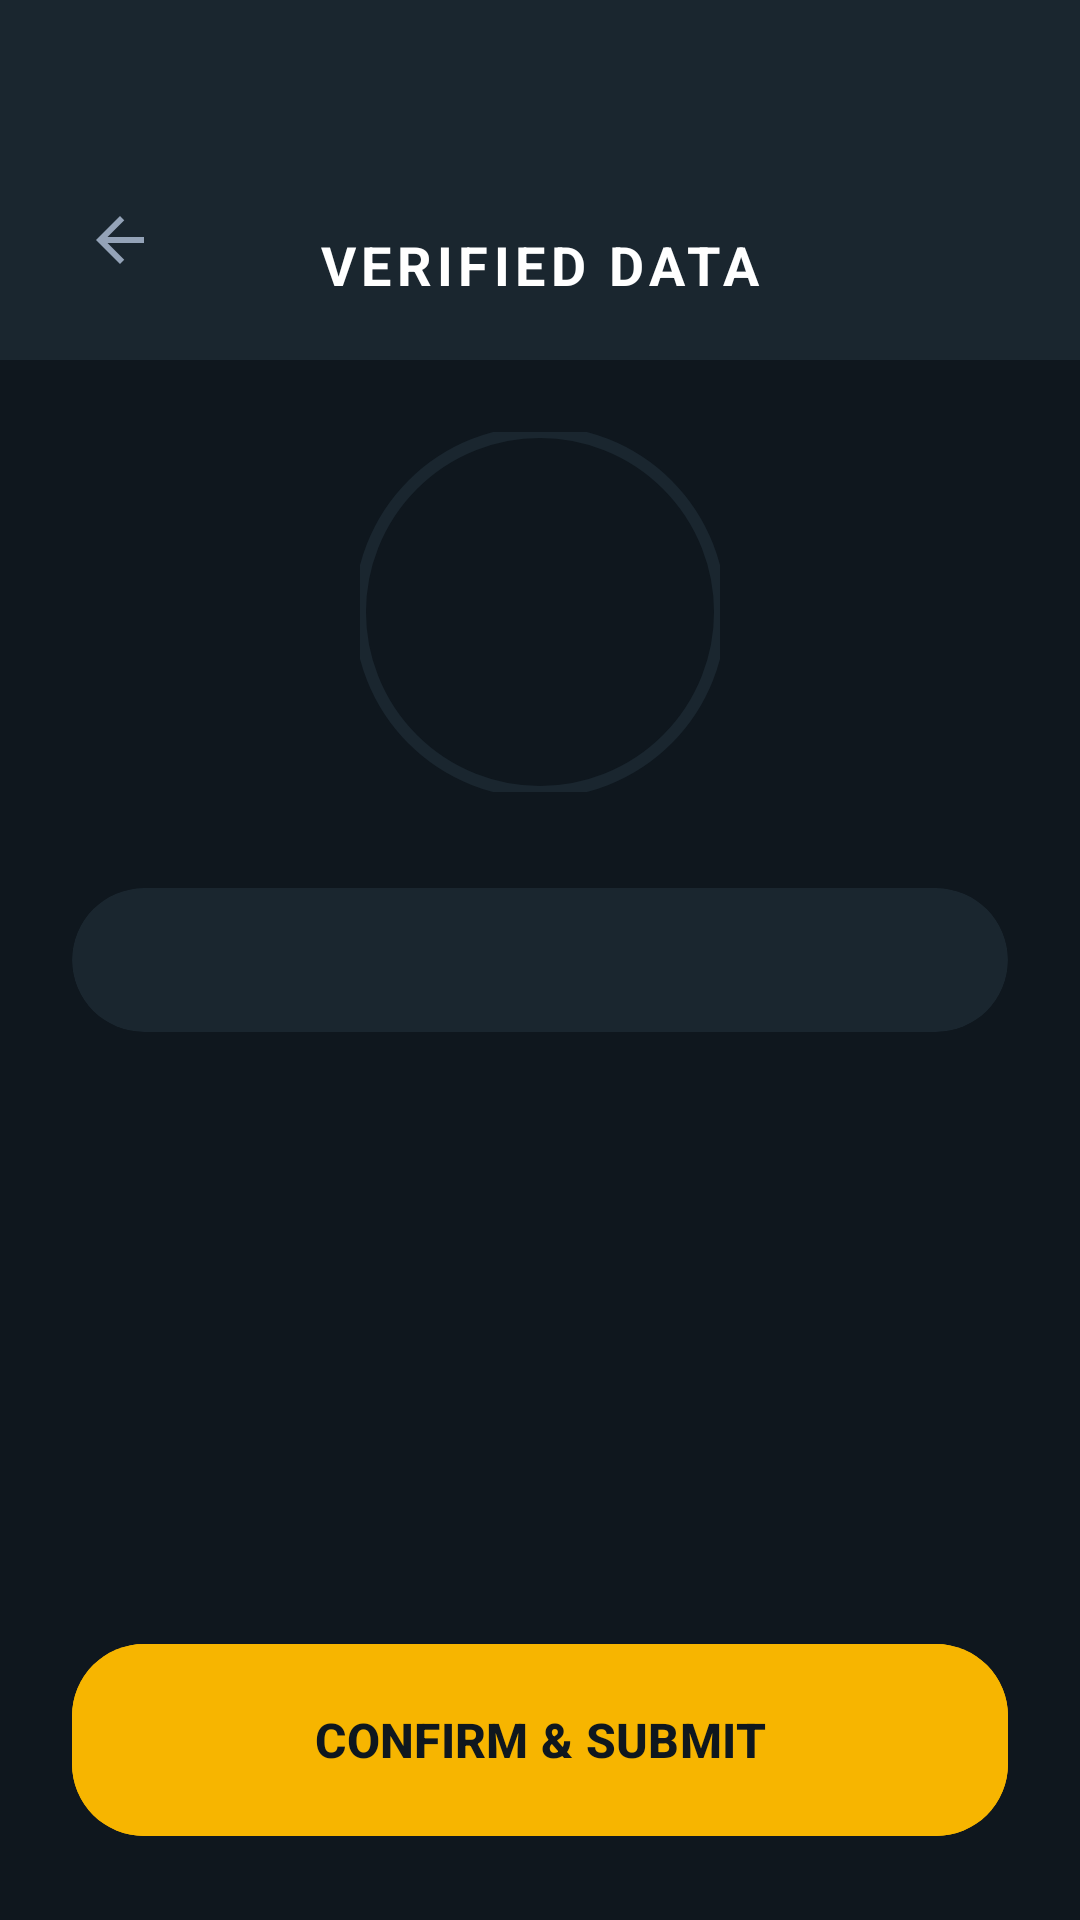

Where to tap for icons on this 1080px x 1920px app screen, as (x=x, y=y):
arrow back: (x=120, y=240)
